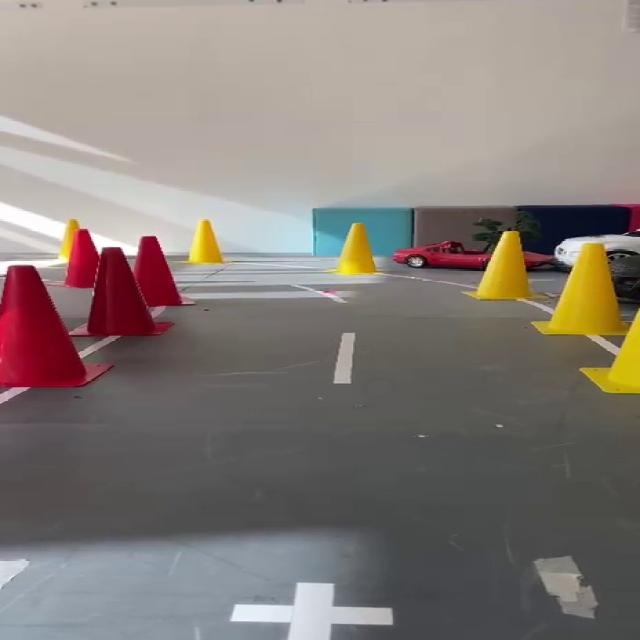Cone-red: (0, 265, 110, 387), (88, 248, 168, 336), (134, 236, 182, 306), (65, 228, 98, 288)
Cones-yellow: (532, 243, 628, 335), (581, 311, 639, 393), (469, 231, 538, 299), (328, 223, 377, 275), (189, 219, 222, 263), (58, 219, 79, 262)
